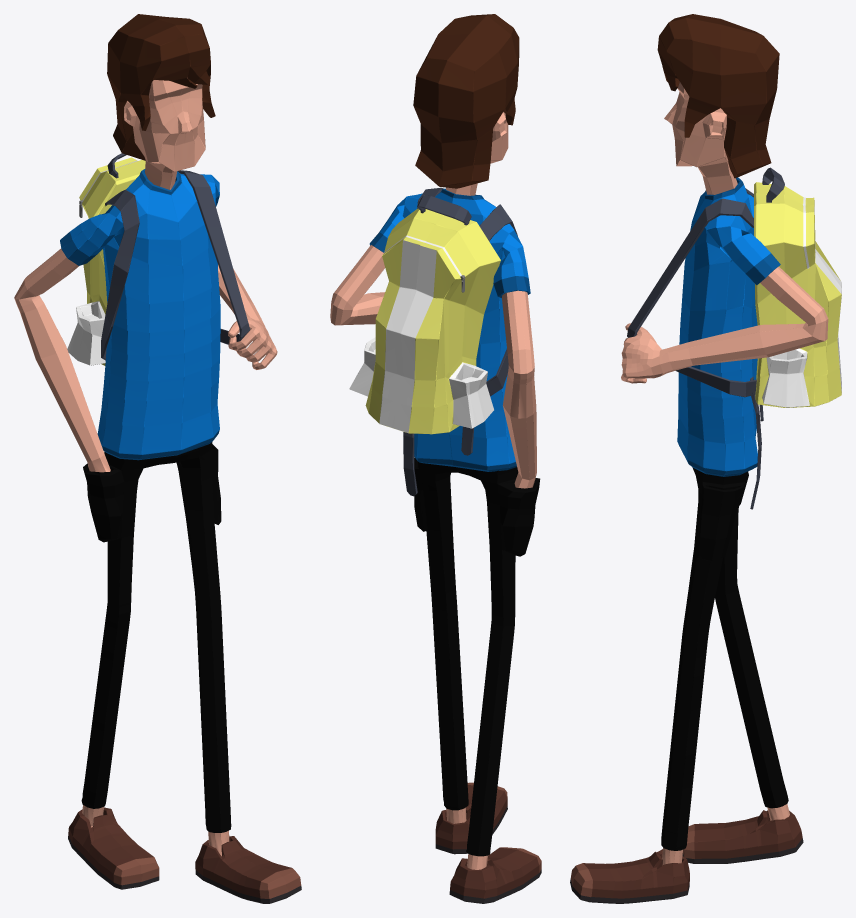
Rendered from Character.glb.
The picture shows the model from 3 angles, left to right: view 1: azimuth 30°, elevation 25°; view 2: azimuth 150°, elevation 25°; view 3: azimuth 270°, elevation 25°; orthographic projection.
Visible parts, largest first — view 1: Renzo; view 2: Renzo; view 3: Renzo.
Boxes of the visible parts, bbox=[...] form: Renzo: bbox=[14, 14, 301, 903]; Renzo: bbox=[330, 14, 541, 903]; Renzo: bbox=[570, 14, 841, 903].
Bounding box in the file's own units: 0.4094 × 1.71 × 0.4919.
12 materials, 1 textured.
